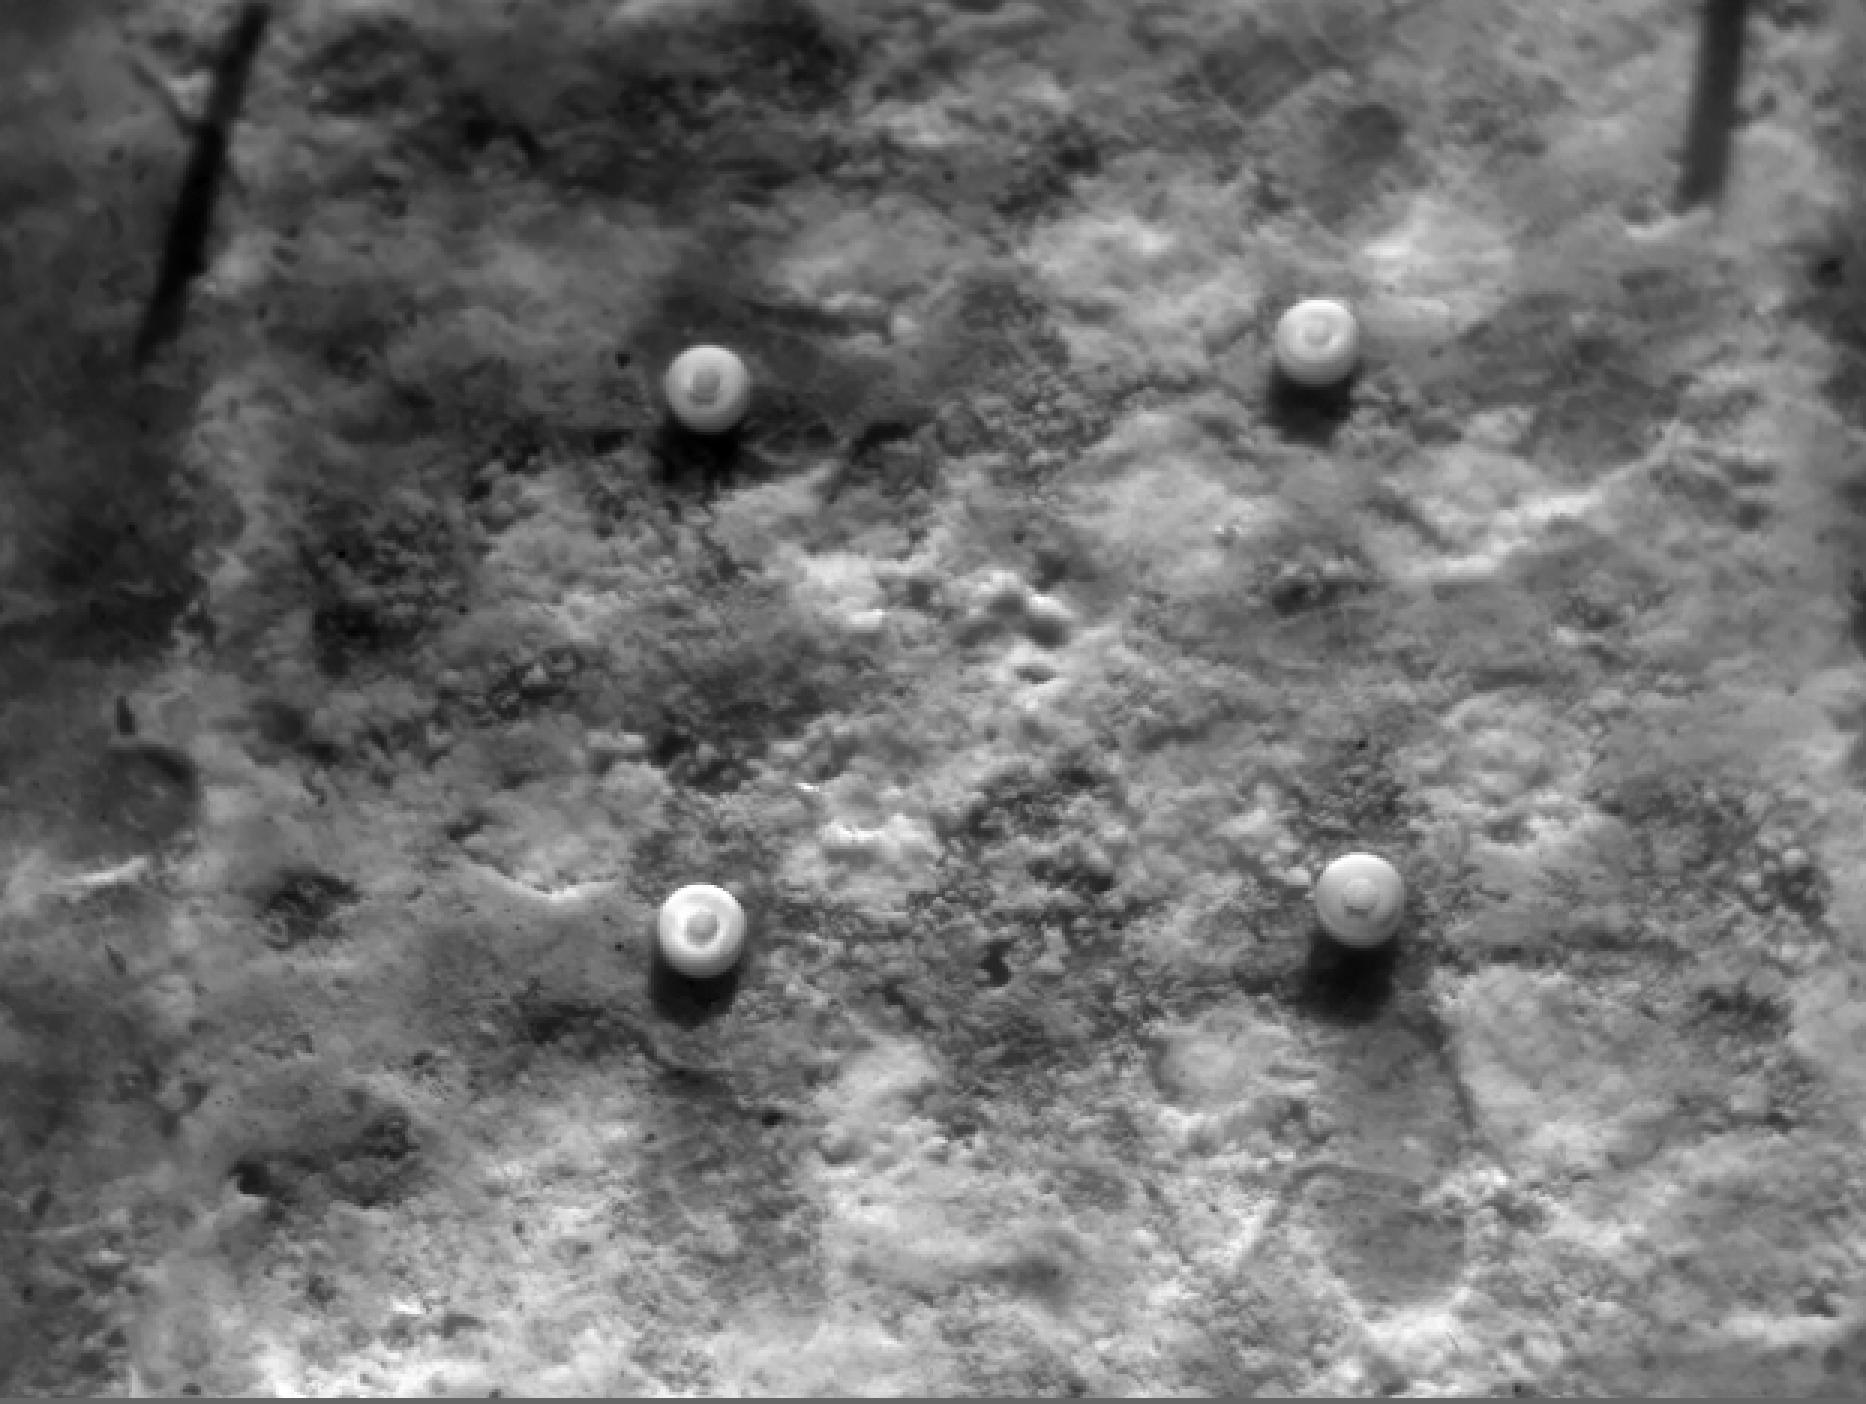mines-gjV8: (655, 342, 763, 439), (652, 882, 757, 978), (1311, 848, 1404, 948), (1282, 288, 1367, 392)
